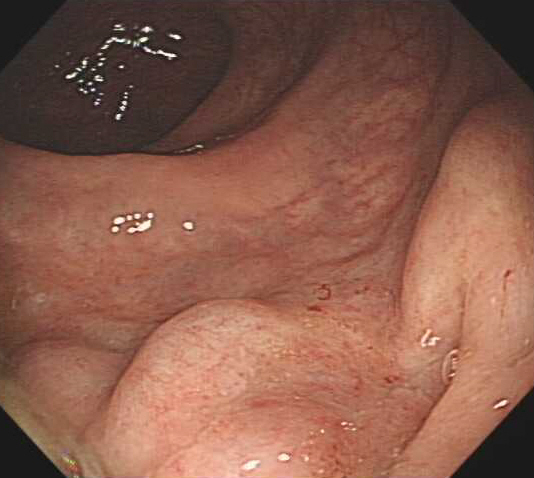others: (98, 294, 334, 478)
